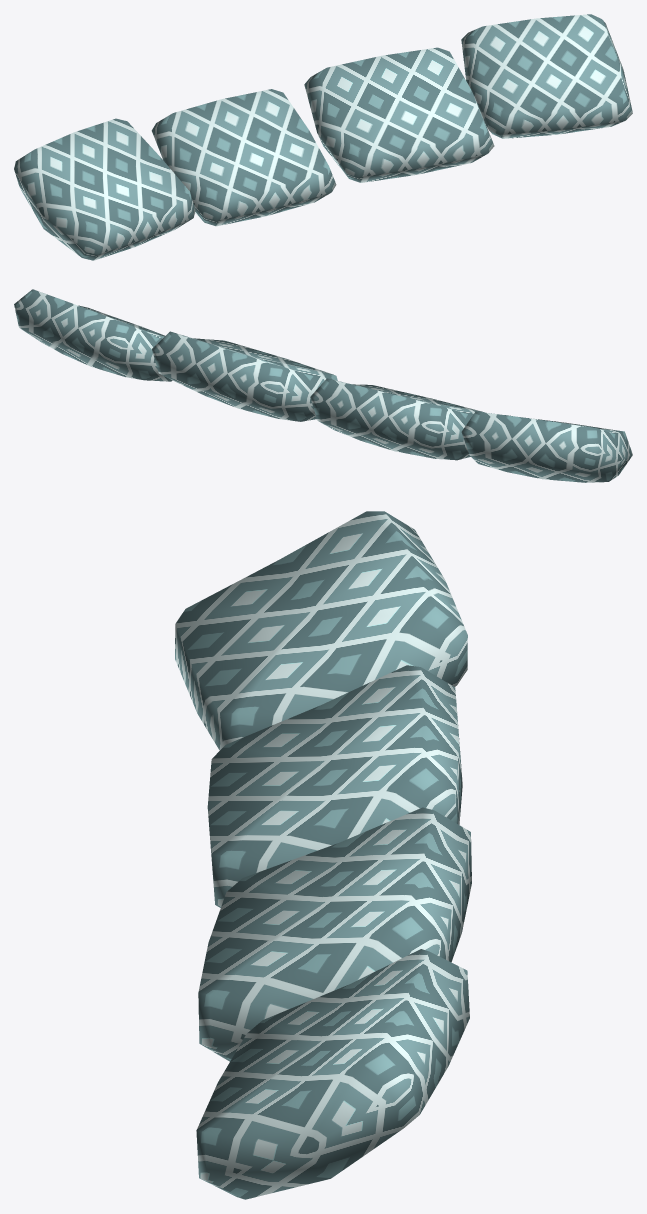
The model's file is DI_058_pillows.glb.
The picture shows the model from 3 angles, top to bottom: view 1: azimuth 30°, elevation 25°; view 2: azimuth 150°, elevation 25°; view 3: azimuth 270°, elevation 25°; orthographic projection. The views are drawn at different scales.
Visible parts, largest first — view 1: Pillow.002, Pillow.003, Pillow, Pillow.001; view 2: Pillow.002, Pillow.001, Pillow, Pillow.003; view 3: Pillow.003, Pillow.001, Pillow.002, Pillow.
Part boxes in pixels (<box>): Pillow.002: <box>304,47,494,182</box>; Pillow.003: <box>461,14,632,138</box>; Pillow: <box>151,89,336,226</box>; Pillow.001: <box>14,118,195,260</box>; Pillow.002: <box>152,331,337,421</box>; Pillow.001: <box>461,411,632,482</box>; Pillow: <box>310,378,484,460</box>; Pillow.003: <box>14,289,172,381</box>; Pillow.003: <box>196,949,469,1199</box>; Pillow.001: <box>175,511,467,750</box>; Pillow.002: <box>198,807,471,1061</box>; Pillow: <box>207,665,462,907</box>.
Size of the model in its own units: 2.82 by 0.4221 by 0.6183.
1 material, 1 textured.
